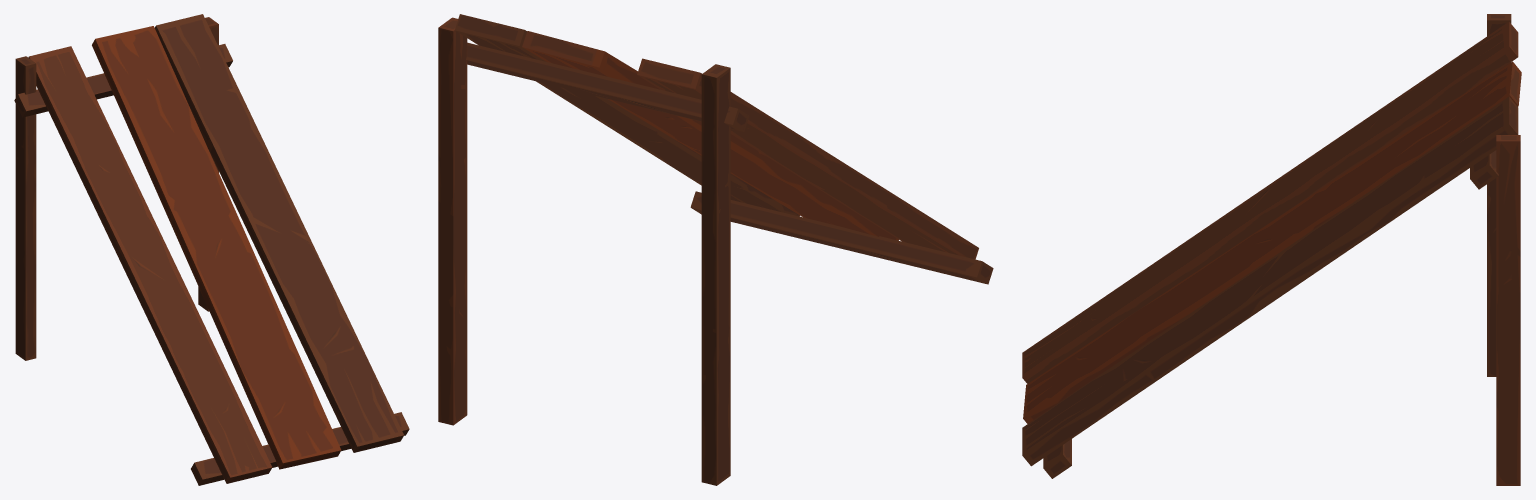
File: ScaffoldingRamp1.fbx
The picture shows the model from 3 angles, left to right: view 1: azimuth 30°, elevation 25°; view 2: azimuth 150°, elevation 25°; view 3: azimuth 270°, elevation 25°; orthographic projection. The views are drawn at different scales.
Visible parts, largest first — view 1: ScaffoldingRamp1; view 2: ScaffoldingRamp1; view 3: ScaffoldingRamp1.
Boxes of the visible parts, x1,y1,x2,y2 form: ScaffoldingRamp1: (14,14,409,485); ScaffoldingRamp1: (438,14,993,485); ScaffoldingRamp1: (1022,14,1521,485).
Size of the model in its own units: 312 by 425 by 540.
